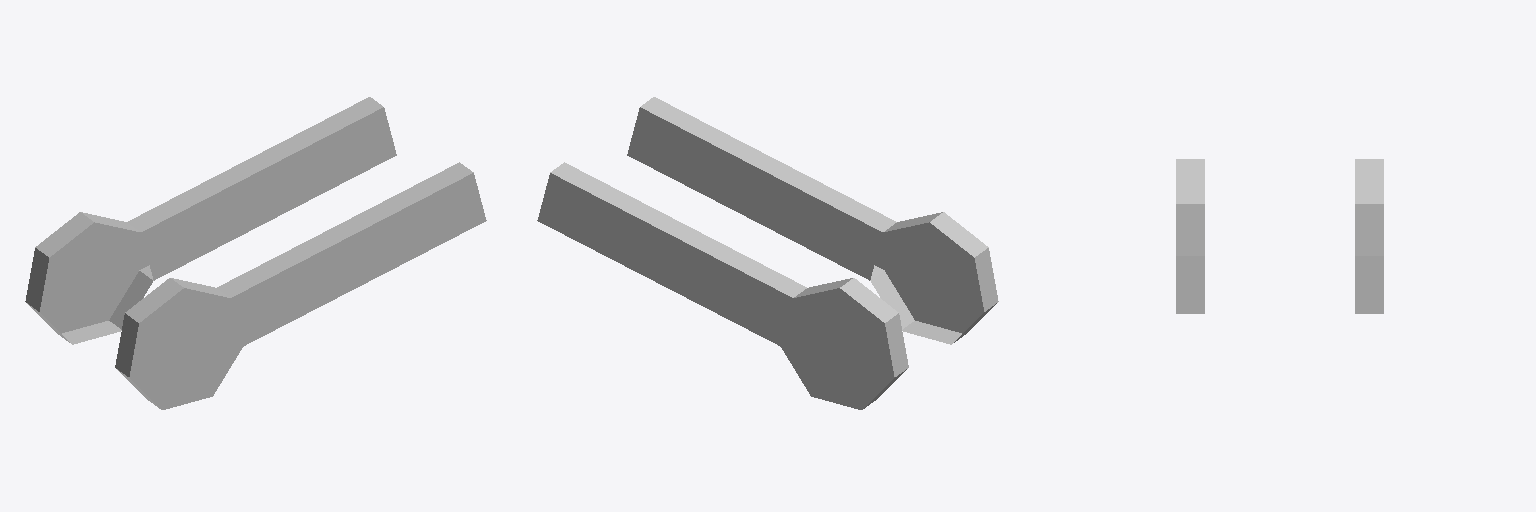
File: radhalterung_v.obj
3 renders of one model, left to right at view 1: azimuth 30°, elevation 25°; view 2: azimuth 150°, elevation 25°; view 3: azimuth 270°, elevation 25°, orthographic.
Visible parts, largest first — view 1: cube1_sep52; view 2: cube1_sep52; view 3: cube1_sep52.
Boxes of the visible parts, <box> form: cube1_sep52: <box>25,97,486,409</box>; cube1_sep52: <box>537,97,998,409</box>; cube1_sep52: <box>1176,159,1383,313</box>.
Size of the model in its own units: 4.01 by 1.73 by 2.02.